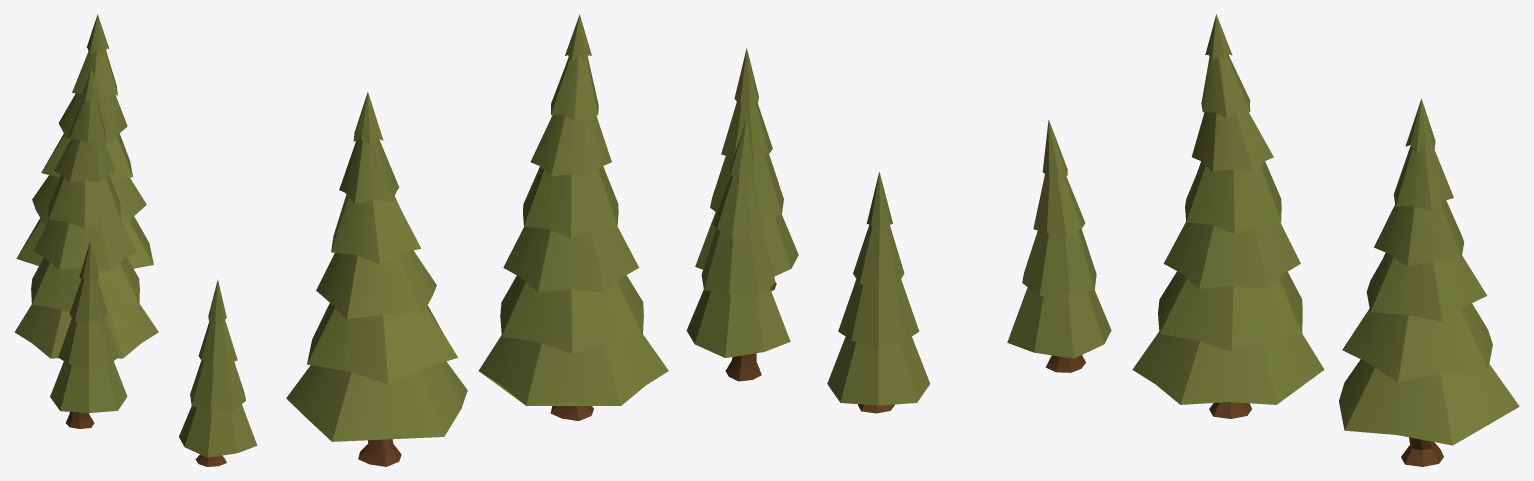
The model's file is trees.fbx.
3 views of the same model, side by side, from view 1: azimuth 30°, elevation 25°; view 2: azimuth 150°, elevation 25°; view 3: azimuth 270°, elevation 25° (orthographic). The views are drawn at different scales.
Parts seen in each view (by area): view 1: tree 2, tree 1, S tree 2, S tree 1; view 2: tree 2, tree 1, S tree 2, S tree 1; view 3: tree 2, tree 1, S tree 2, S tree 1.
Part boxes in pixels (<box>): tree 2: <box>15,69,158,358</box>; tree 1: <box>16,14,153,268</box>; S tree 2: <box>50,240,127,428</box>; S tree 1: <box>179,279,257,466</box>; tree 2: <box>478,14,668,420</box>; tree 1: <box>286,92,467,466</box>; S tree 2: <box>686,119,790,381</box>; S tree 1: <box>695,48,798,290</box>; tree 2: <box>1132,14,1324,418</box>; tree 1: <box>1339,98,1519,466</box>; S tree 2: <box>1007,119,1111,372</box>; S tree 1: <box>827,172,930,413</box>.
Size of the model in its own units: 3.57 by 4.42 by 7.01.
